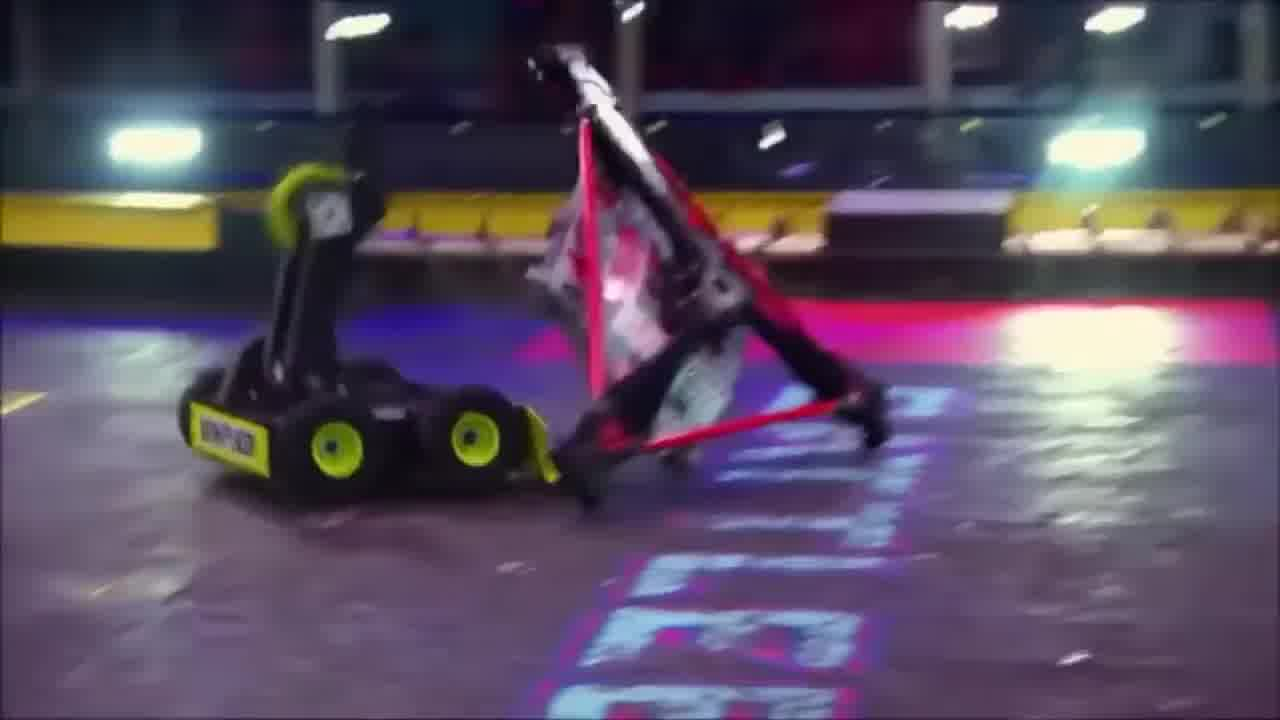combatbot: (528, 127, 857, 426), (175, 299, 564, 518)
